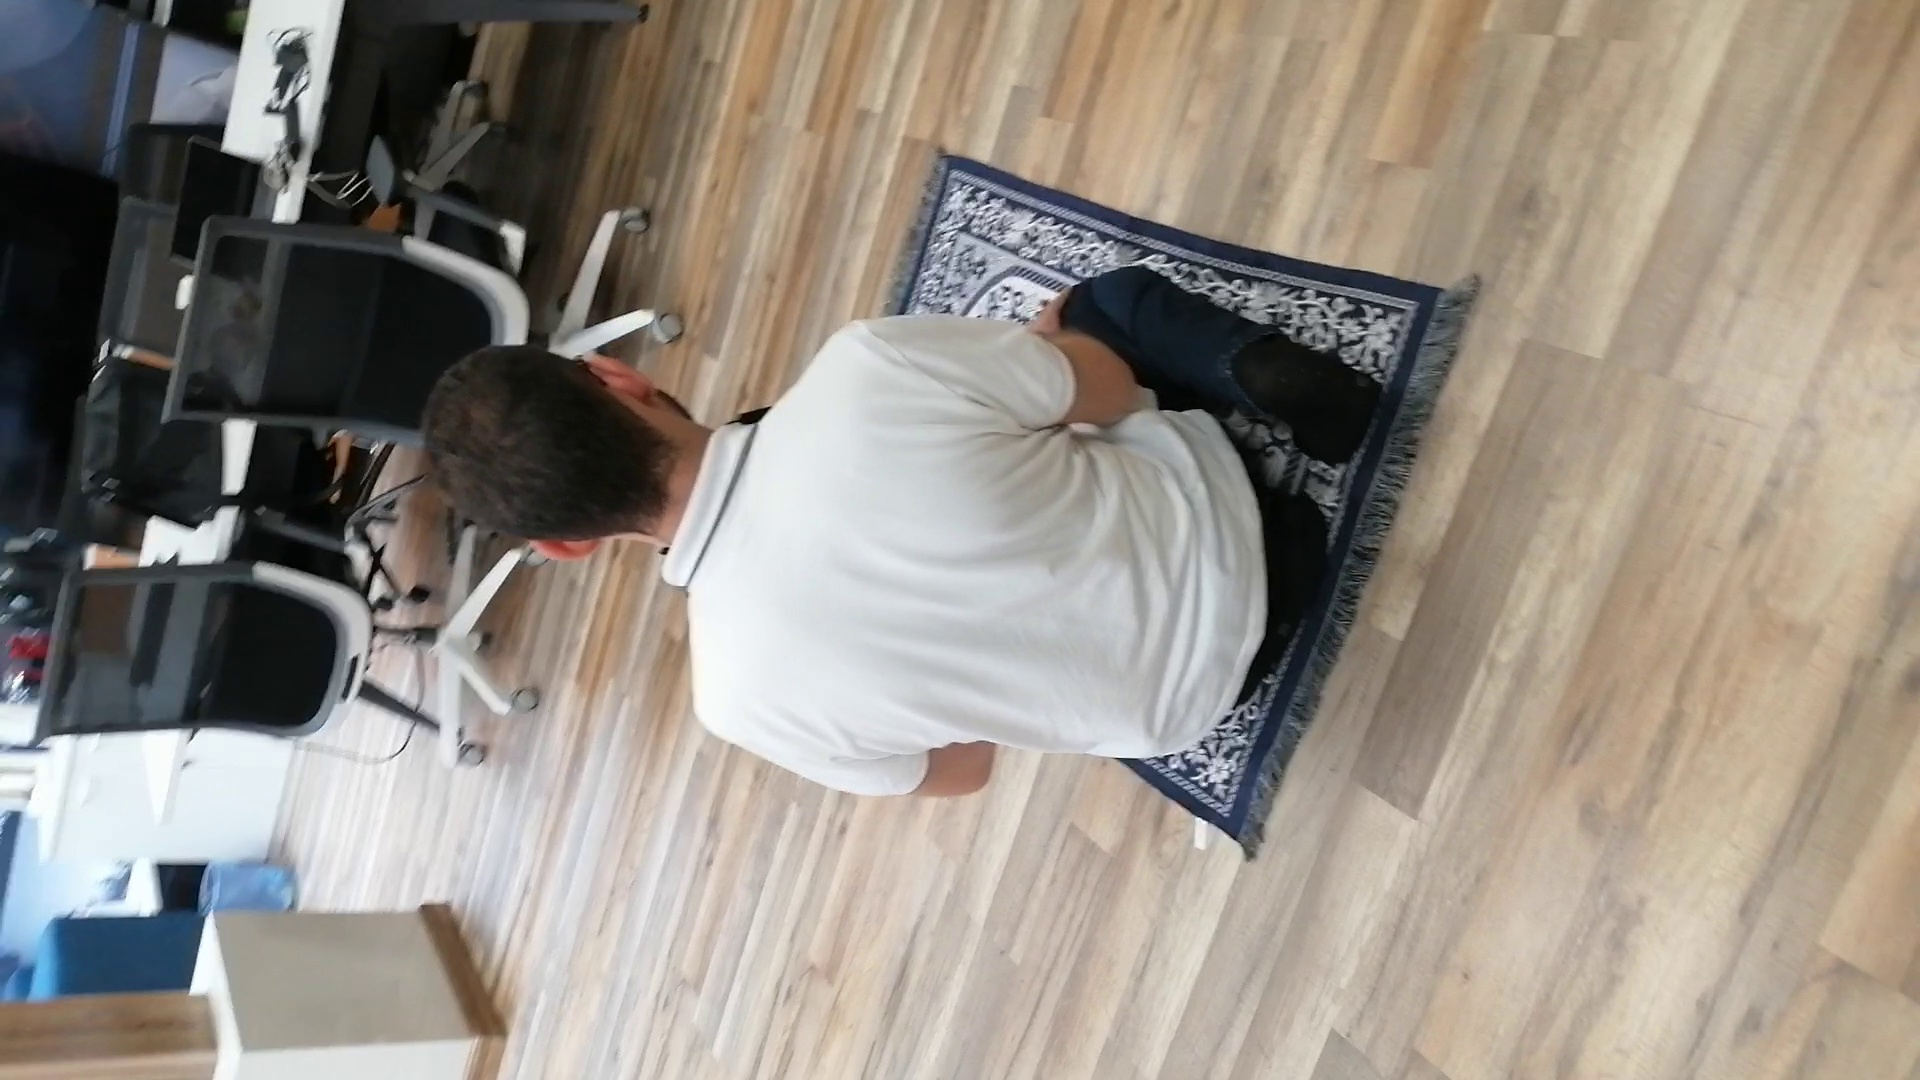sitting: (404, 253, 1375, 807)
